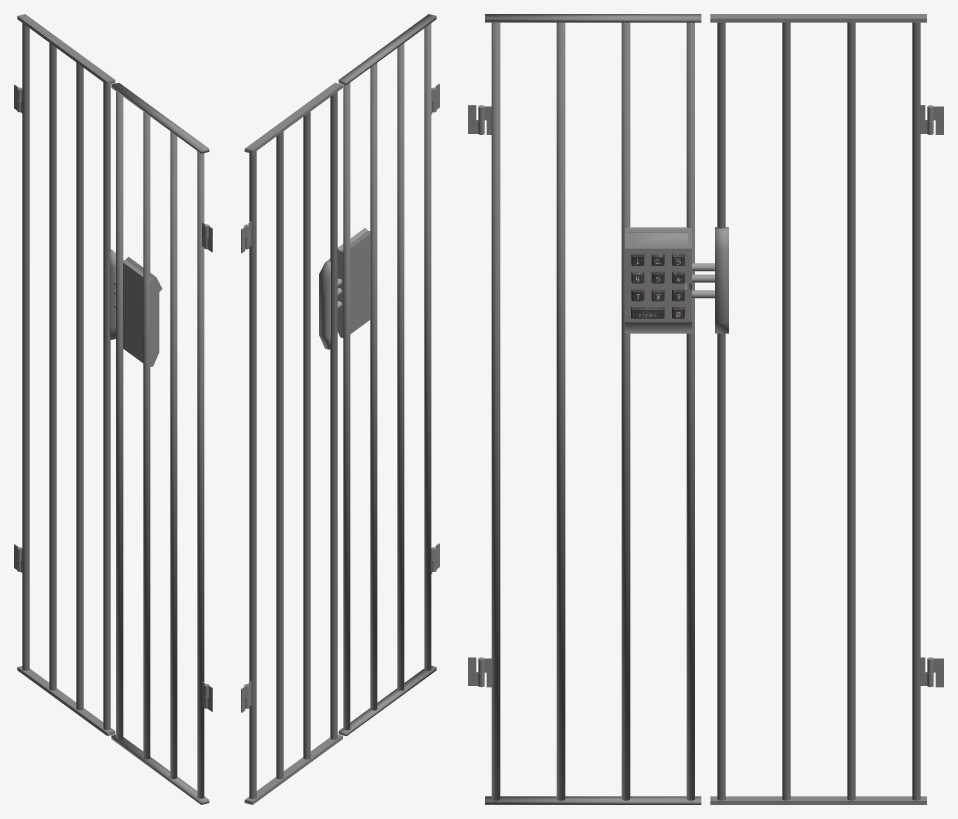
The model's file is CodeDoor.FBX.
3 views of the same model, side by side, from view 1: azimuth 30°, elevation 25°; view 2: azimuth 150°, elevation 25°; view 3: azimuth 270°, elevation 25° (orthographic). The views are drawn at different scales.
Visible parts, largest first — view 1: RightDoor, LeftDoor, Lock, RightLock; view 2: LeftDoor, RightDoor, Lock, RightLock; view 3: LeftDoor, RightDoor, Lock, RightLock.
Part boxes in pixels (x1,y1,x2,y2): RightDoor: (17,14,115,736); LeftDoor: (111,83,209,804); Lock: (123,257,162,366); RightLock: (110,249,115,339); LeftDoor: (338,14,436,736); RightDoor: (244,82,342,804); Lock: (337,228,370,337); RightLock: (319,259,330,349); LeftDoor: (478,14,701,804); RightDoor: (710,14,933,804); Lock: (625,227,691,333); RightLock: (715,227,728,333).
Bounding box in the file's own units: 6.22 × 110 × 200.
Materials: 6 (1 with a texture image).
